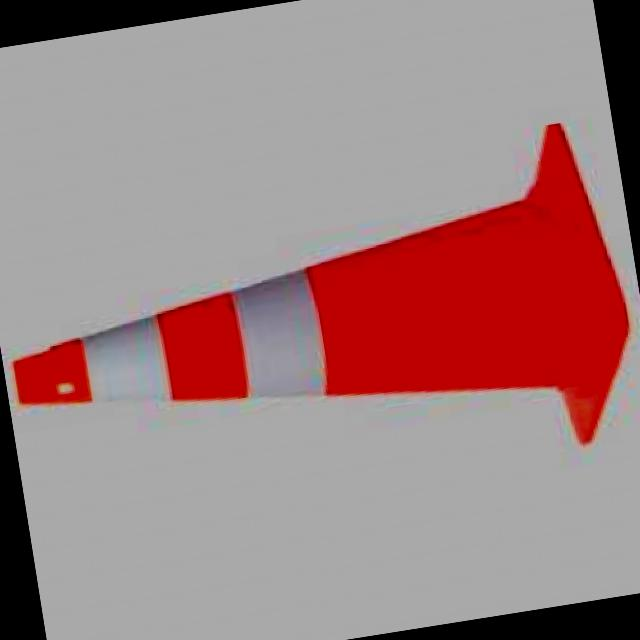cone: (0, 100, 640, 558)
